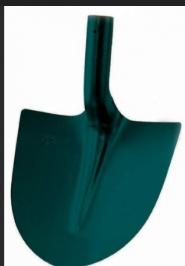PELLE: (7, 14, 185, 266)
